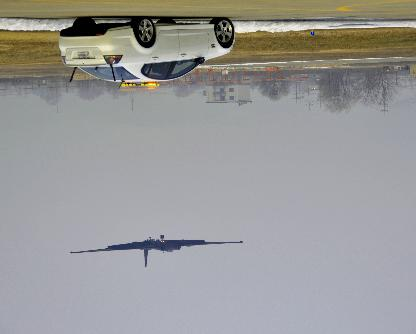Tu160: (70, 235, 244, 267)
